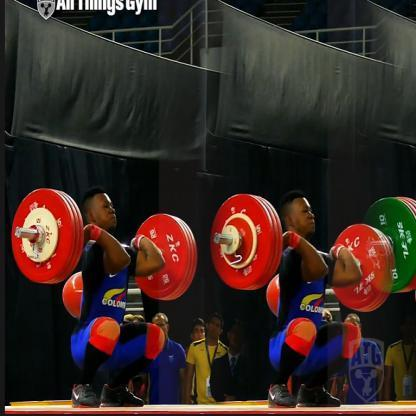barbell: (208, 190, 393, 314), (9, 187, 198, 303), (370, 192, 416, 294)
